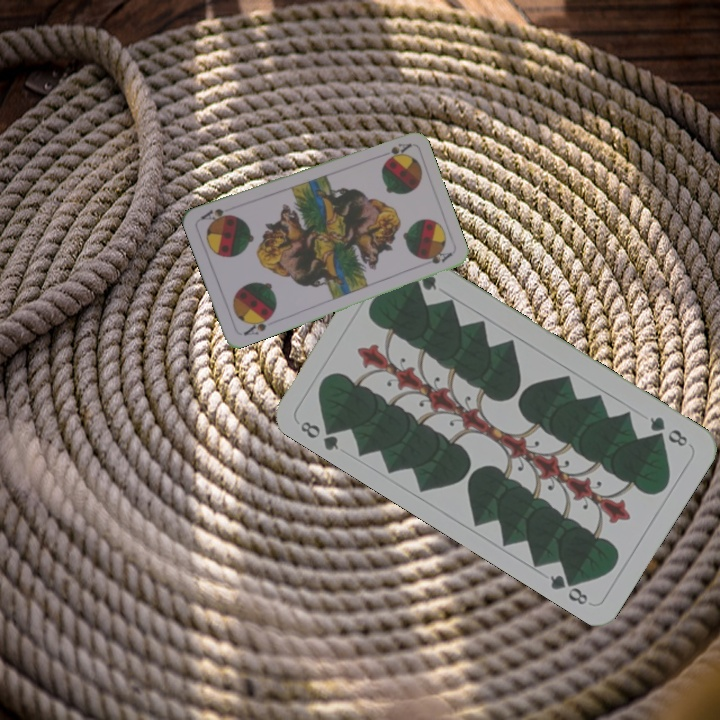G8: (645, 412, 691, 450), (296, 417, 343, 454)
SA: (239, 311, 275, 338), (386, 139, 413, 159)
